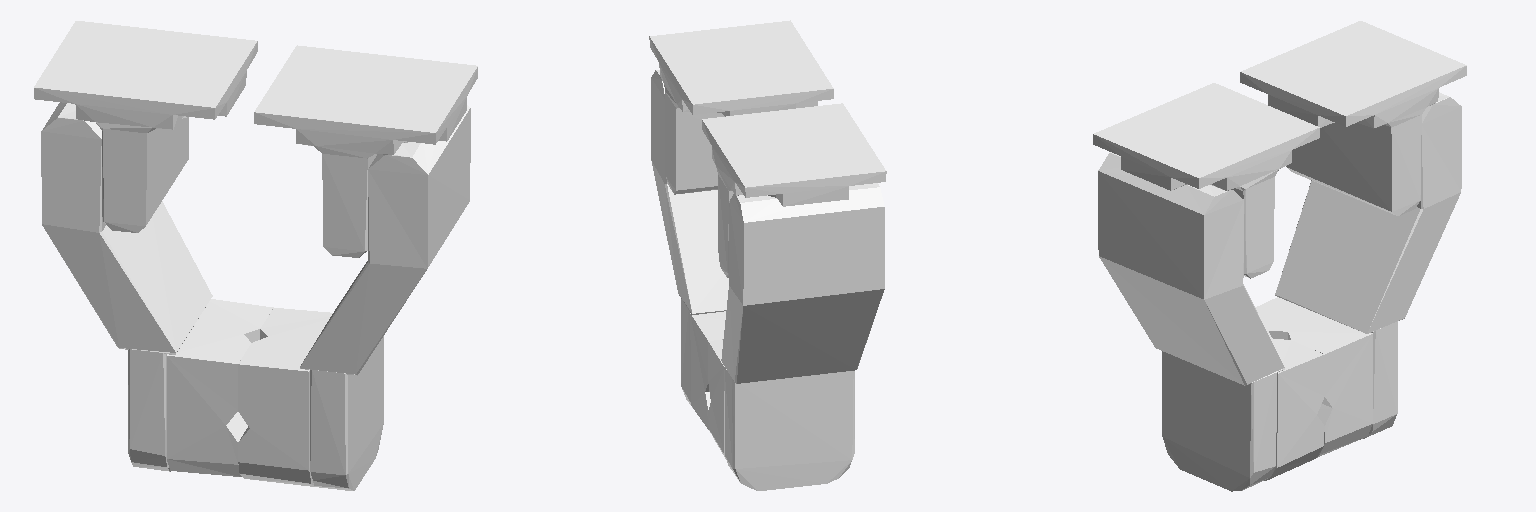
robot.urdf — panda:
<?xml version="1.0" ?>
<!-- =================================================================================== -->
<!-- |    This document was autogenerated by xacro from panda_arm_hand.urdf.xacro      | -->
<!-- |    EDITING THIS FILE BY HAND IS NOT RECOMMENDED                                 | -->
<!-- =================================================================================== -->
<robot name="panda" xmlns:xacro="http://www.ros.org/wiki/xacro">
<link name="world"/>
<joint name="base_joint" type="fixed">
    <origin rpy="0 0 0" xyz="0 0 0"/>
    <parent link="world"/>
    <child link="panda_link0"/>
  </joint>
  <link name="panda_link0">
  	<inertial>
      <origin rpy="0 0 0" xyz="0 0 0.05"/>
       <mass value="2.9"/>
       <inertia ixx="0.1" ixy="0" ixz="0" iyy="0.1" iyz="0" izz="0.1"/>
    </inertial>
    <visual>
      <geometry>
        <mesh filename="meshes/collision/link0.obj"/>
      </geometry>
      <material name="panda_white">
    		<color rgba="1. 1. 1. 1."/>
  		</material>
    </visual>
    <collision>
      <geometry>
        <mesh filename="meshes/collision/link0.obj"/>
      </geometry>
      <material name="panda_white"/>
    </collision>
  </link>
  <link name="panda_link1">
  	<inertial>
      <origin rpy="0 0 0" xyz="0 -0.04 -0.05"/>
       <mass value="2.7"/>
       <inertia ixx="0.1" ixy="0" ixz="0" iyy="0.1" iyz="0" izz="0.1"/>
    </inertial>
    <visual>
      <geometry>
        <mesh filename="meshes/visual/link1.obj"/>
      </geometry>
      <material name="panda_white"/>
    </visual>
    <collision>
      <geometry>
        <mesh filename="meshes/collision/link1.obj"/>
      </geometry>
      <material name="panda_white"/>
    </collision>
  </link>
  <joint name="panda_joint1" type="revolute">
    <safety_controller k_position="100.0" k_velocity="40.0" soft_lower_limit="-2.8973" soft_upper_limit="2.8973"/>
    <origin rpy="0 0 0" xyz="0 0 0.333"/>
    <parent link="panda_link0"/>
    <child link="panda_link1"/>
    <axis xyz="0 0 1"/>
    <limit effort="87" lower="-2.9671" upper="2.9671" velocity="2.1750"/>
  </joint>
  <link name="panda_link2">
  	<inertial>
      <origin rpy="0 0 0" xyz="0 -0.04 0.06"/>
       <mass value="2.73"/>
       <inertia ixx="0.1" ixy="0" ixz="0" iyy="0.1" iyz="0" izz="0.1"/>
    </inertial>
    <visual>
      <geometry>
        <mesh filename="meshes/visual/link2.obj"/>
      </geometry>
      <material name="panda_white"/>
    </visual>
    <collision>
      <geometry>
        <mesh filename="meshes/collision/link2.obj"/>
      </geometry>
      <material name="panda_white"/>
    </collision>
  </link>
  <joint name="panda_joint2" type="revolute">
    <safety_controller k_position="100.0" k_velocity="40.0" soft_lower_limit="-1.7628" soft_upper_limit="1.7628"/>
    <origin rpy="-1.57079632679 0 0" xyz="0 0 0"/>
    <parent link="panda_link1"/>
    <child link="panda_link2"/>
    <axis xyz="0 0 1"/>
    <limit effort="87" lower="-1.8326" upper="1.8326" velocity="2.1750"/>
  </joint>
  <link name="panda_link3">
	  <inertial>
      <origin rpy="0 0 0" xyz="0.01 0.01 -0.05"/>
       <mass value="2.04"/>
       <inertia ixx="0.1" ixy="0" ixz="0" iyy="0.1" iyz="0" izz="0.1"/>
    </inertial>
    <visual>
      <geometry>
        <mesh filename="meshes/visual/link3.obj"/>
      </geometry>
      <material name="panda_red">
    		<color rgba="1. 1. 1. 1."/>
  		</material>
    </visual>
    <collision>
      <geometry>
        <mesh filename="meshes/collision/link3.obj"/>
      </geometry>
    </collision>
  </link>
  <joint name="panda_joint3" type="revolute">
    <safety_controller k_position="100.0" k_velocity="40.0" soft_lower_limit="-2.8973" soft_upper_limit="2.8973"/>
    <origin rpy="1.57079632679 0 0" xyz="0 -0.316 0"/>
    <parent link="panda_link2"/>
    <child link="panda_link3"/>
    <axis xyz="0 0 1"/>
    <limit effort="87" lower="-2.9671" upper="2.9671" velocity="2.1750"/>
  </joint>
  <link name="panda_link4">
  	<inertial>
      <origin rpy="0 0 0" xyz="-0.03 0.03 0.02"/>
       <mass value="2.08"/>
       <inertia ixx="0.1" ixy="0" ixz="0" iyy="0.1" iyz="0" izz="0.1"/>
    </inertial>
    <visual>
      <geometry>
        <mesh filename="meshes/visual/link4.obj"/>
      </geometry>
      <material name="panda_white"/>
    </visual>
    <collision>
      <geometry>
        <mesh filename="meshes/collision/link4.obj"/>
      </geometry>
      <material name="panda_white"/>
    </collision>
  </link>
  <joint name="panda_joint4" type="revolute">
    <safety_controller k_position="100.0" k_velocity="40.0" soft_lower_limit="-3.0718" soft_upper_limit="-0.0698"/>
    <origin rpy="1.57079632679 0 0" xyz="0.0825 0 0"/>
    <parent link="panda_link3"/>
    <child link="panda_link4"/>
    <axis xyz="0 0 1"/>
    <limit effort="87" lower="-3.1416" upper="0.0" velocity="2.1750"/>
  </joint>
  <link name="panda_link5">
  	<inertial>
      <origin rpy="0 0 0" xyz="0 0.04 -0.12"/>
       <mass value="3"/>
       <inertia ixx="0.1" ixy="0" ixz="0" iyy="0.1" iyz="0" izz="0.1"/>
    </inertial>
    <visual>
      <geometry>
        <mesh filename="meshes/visual/link5.obj"/>
      </geometry>
      <material name="panda_white"/>
    </visual>
    <collision>
      <geometry>
        <mesh filename="meshes/collision/link5.obj"/>
      </geometry>
      <material name="panda_white"/>
    </collision>
  </link>
  <joint name="panda_joint5" type="revolute">
    <safety_controller k_position="100.0" k_velocity="40.0" soft_lower_limit="-2.8973" soft_upper_limit="2.8973"/>
    <origin rpy="-1.57079632679 0 0" xyz="-0.0825 0.384 0"/>
    <parent link="panda_link4"/>
    <child link="panda_link5"/>
    <axis xyz="0 0 1"/>
    <limit effort="12" lower="-2.9671" upper="2.9671" velocity="2.6100"/>
  </joint>
  <link name="panda_link6">
  	<inertial>
      <origin rpy="0 0 0" xyz="0.04 0 0"/>
       <mass value="1.3"/>
       <inertia ixx="0.1" ixy="0" ixz="0" iyy="0.1" iyz="0" izz="0.1"/>
    </inertial>
    <visual>
      <geometry>
        <mesh filename="meshes/visual/link6.obj"/>
      </geometry>
      <material name="panda_white"/>
    </visual>
    <collision>
      <geometry>
        <mesh filename="meshes/collision/link6.obj"/>
      </geometry>
      <material name="panda_white"/>
    </collision>
  </link>
  <joint name="panda_joint6" type="revolute">
    <safety_controller k_position="100.0" k_velocity="40.0" soft_lower_limit="-0.0175" soft_upper_limit="3.7525"/>
    <origin rpy="1.57079632679 0 0" xyz="0 0 0"/>
    <parent link="panda_link5"/>
    <child link="panda_link6"/>
    <axis xyz="0 0 1"/>
    <limit effort="12" lower="-0.0873" upper="3.8223" velocity="2.6100"/>
  </joint>
  <link name="panda_link7">
  	<inertial>
      <origin rpy="0 0 0" xyz="0 0 0.08"/>
       <mass value=".2"/>
       <inertia ixx="0.1" ixy="0" ixz="0" iyy="0.1" iyz="0" izz="0.1"/>
    </inertial>
    <visual>
      <geometry>
        <mesh filename="meshes/collision/link7.obj"/>
      </geometry>
      <material name="panda_white"/>
    </visual>
    <collision>
      <geometry>
        <mesh filename="meshes/collision/link7.obj"/>
      </geometry>
      <material name="panda_white"/>
    </collision>
  </link>
  <joint name="panda_joint7" type="revolute">
    <safety_controller k_position="100.0" k_velocity="40.0" soft_lower_limit="-2.8973" soft_upper_limit="2.8973"/>
    <origin rpy="1.57079632679 0 0" xyz="0.088 0 0"/>
    <parent link="panda_link6"/>
    <child link="panda_link7"/>
    <axis xyz="0 0 1"/>
    <limit effort="12" lower="-2.9671" upper="2.9671" velocity="2.6100"/>
  </joint>
  <link name="panda_link8">
  </link>
  <joint name="panda_joint8" type="fixed">
    <origin rpy="0 0 0" xyz="0 0 0.107"/>
    <parent link="panda_link7"/>
    <child link="panda_link8"/>
    <axis xyz="0 0 0"/>
  </joint>
  <joint name="panda_hand_joint" type="fixed">
    <parent link="panda_link8"/>
    <child link="panda_hand"/>
    <origin rpy="0 0 -0.785398163397" xyz="0 0 0"/>
  </joint>
  <link name="panda_hand">
  	<inertial>
      <origin rpy="0 0 0" xyz="0 0 0.04"/>
       <mass value=".81"/>
       <inertia ixx="0.1" ixy="0" ixz="0" iyy="0.1" iyz="0" izz="0.1"/>
    </inertial>
    <visual>
      <geometry>
        <mesh filename="meshes/visual/hand.obj"/>
      </geometry>
      <material name="panda_white"/>
    </visual>
    <collision>
      <geometry>
        <mesh filename="meshes/collision/hand.obj"/>
      </geometry>
      <material name="panda_white"/>
    </collision>
  </link>
  <link name="panda_leftfinger">
       <contact>
      <friction_anchor/>
      <stiffness value="30000.0"/>
      <damping value="1000.0"/>
      <spinning_friction value="0.1"/>
      <lateral_friction value="1.0"/>
    </contact>
  	<inertial>
      <origin rpy="0 0 0" xyz="0 0.01 0.02"/>
       <mass value="0.1"/>
       <inertia ixx="0.1" ixy="0" ixz="0" iyy="0.1" iyz="0" izz="0.1"/>
    </inertial>
    <visual>
      <geometry>
        <!-- <mesh filename="meshes/visual/finger.obj"/> -->
        <mesh filename="meshes/visual/finger_vis.obj"/>
        <!-- <mesh filename="meshes/collision/finger_transformed.obj"/> -->
      </geometry>
      <material name="panda_white"/>
    </visual>
    <collision>
      <geometry>
        <mesh filename="meshes/collision/finger_transformed.obj"/>
      </geometry>
      <material name="panda_white"/>
    </collision>
  </link>
  <link name="panda_rightfinger">
        <contact>
      <friction_anchor/>
      <stiffness value="30000.0"/>
      <damping value="1000.0"/>
      <spinning_friction value="0.1"/>
      <lateral_friction value="1.0"/>
    </contact>

  	<inertial>
      <origin rpy="0 0 0" xyz="0 -0.01 0.02"/>
       <mass value="0.1"/>
       <inertia ixx="0.1" ixy="0" ixz="0" iyy="0.1" iyz="0" izz="0.1"/>
    </inertial>
    <visual>
      <origin rpy="0 0 0" xyz="0 0 0"/>
      <geometry>
        <!-- <mesh filename="meshes/visual/finger.obj"/> -->
        <mesh filename="meshes/visual/finger_vis.obj"/>
        <!-- <mesh filename="meshes/collision/finger_transformed.obj"/> -->
      </geometry>
      <material name="panda_white"/>
    </visual>
    <collision>
      <origin rpy="0 0 0" xyz="0 0 0"/>
      <geometry>
        <!-- <mesh filename="meshes/collision/finger.obj"/> -->
        <mesh filename="meshes/collision/finger_transformed.obj"/>
      </geometry>
      <material name="panda_white"/>
    </collision>
  </link>
  <joint name="panda_finger_joint1" type="prismatic">
    <parent link="panda_hand"/>
    <child link="panda_leftfinger"/>
    <origin rpy="0 0 0" xyz="0 0.01 0.0684"/>
    <axis xyz="0 1 0"/>
    <limit effort="20" lower="0.0" upper="0.04" velocity="0.2"/>
  </joint>
  <joint name="panda_finger_joint2" type="prismatic">
    <parent link="panda_hand"/>
    <child link="panda_rightfinger"/>
    <origin rpy="0 0 3.14" xyz="0 -0.01 0.0684"/>
    <axis xyz="0 1 0"/>
    <limit effort="20" lower="0.0" upper="0.04" velocity="0.2"/>
    <!-- <mimic joint="panda_finger_joint1"/> -->
  </joint>

  <link name="panda_grasptarget">
<!--  <inertial>-->
<!--      <origin rpy="0 0 0" xyz="0 0 0"/>-->
<!--       <mass value="0.0"/>-->
<!--       <inertia ixx="0.1" ixy="0" ixz="0" iyy="0.1" iyz="0" izz="0.1"/>-->
<!--    </inertial>-->
   </link>
   <joint name="panda_grasptarget_hand" type="fixed">
    <parent link="panda_hand"/>
    <child link="panda_grasptarget"/>
    <origin rpy="0 0 0" xyz="0 0 0.105"/>
  </joint>

<!--  <link name="spatula_link">-->
<!--    <inertial>-->
<!--      <origin rpy="-2.9515927 0 -3.1415926" xyz="0 -0.03 -0.16"/>-->
<!--      <mass value="0.4"/>-->
<!--      <inertia ixx="1" ixy="0" ixz="0" iyy="1" iyz="0" izz="1"/>-->
<!--    </inertial>-->
<!--    <visual>-->
<!--      <origin rpy="-2.9515927 0 -3.1415926" xyz="0 0.0 0.16"/>-->
<!--      <geometry>-->
<!--        <mesh filename="../spatula/spatula.obj" scale="0.4 0.4 0.4"/>-->
<!--      </geometry>-->
<!--      <material name="grey">-->
<!--        <color rgba="0.85 0.85 0.85 1.0"/>-->
<!--      </material>-->
<!--    </visual>-->
<!--    <collision>-->
<!--      <origin rpy="-2.9515927 0 -3.1415926" xyz="0 0.0 0.16"/>-->
<!--      <geometry>-->
<!--  	<mesh filename="../spatula/spatula.obj" scale="0.4 0.4 0.4"/>-->
<!--      </geometry>-->
<!--    </collision>-->
<!--  </link>-->


  <!-- <link name="ee">
   <inertial>
     <origin rpy="0 0 0" xyz="0 0 0"/>
      <mass value="0.0"/>
      <inertia ixx="0.1" ixy="0" ixz="0" iyy="0.1" iyz="0" izz="0.1"/>
   </inertial>
    <visual>
      <origin xyz="0 0 0" rpy="0 0 0"/>
      <geometry>
       <sphere radius="0.01"/>
        <box size="0.1 0.08 0.005"/>
      </geometry>
        <material name="cyan">
            <color rgba="0 1 1 1"/>
        </material>
    </visual>
    <collision>
      <origin rpy="0 0 0" xyz="-0.0 0 0."/>
      <geometry>
  	    <box size="0.1 0.08 0.005"/>
      </geometry>
    </collision>
  </link>
 <joint name="spatula_joint_ee" type="fixed">
   <parent link="spatula_link"/>
   <child link="ee"/>
&lt;!&ndash;    <origin rpy="0 0 0" xyz="0 -0.01 0.3"/>&ndash;&gt;
   <origin rpy=" 0 -1.77 -1.5707963" xyz="0 -0.01 0.3"/>
 </joint>
    <joint name="spatula_joint_ee" type="fixed">
    <parent link="spatula_link"/>
    <child link="ee"/>
   <origin rpy="0 0 0" xyz="0 -0.01 0.3"/>
    <origin rpy=" 0 -2. -1.5707963" xyz="0. 0.01 0.25"/>
    <origin rpy="0 0 3.1415926" xyz="0. 0. -0"/>
  </joint> -->

<!--  <link name="target">-->
<!--    <visual>-->
<!--    <origin xyz="0 0 0.02" rpy="0 0 0"/>-->
<!--      <geometry>-->
<!--        <sphere radius="0.1"/>-->
<!--      </geometry>-->
<!--        <material name="cyan">-->
<!--            <color rgba="0 1 1 1"/>-->
<!--        </material>-->
<!--    </visual>-->
<!--  </link>-->
<!--  <joint name="target_joint" type="fixed">-->
<!--    <parent link="world"/>-->
<!--    <child link="target"/>-->
<!--    <origin rpy="0 0 0" xyz="0 0.0 0."/>-->
<!--  </joint>-->

</robot>

--- What the picture shows (computed from the rendered views, not written in the file) ---
The picture shows the robot from 3 angles, left to right: view 1: azimuth 30°, elevation 25°; view 2: azimuth 150°, elevation 25°; view 3: azimuth 270°, elevation 25°; orthographic projection.
Model panda with 14 links and 13 joints (7 revolute, 2 prismatic, 4 fixed), rooted at world, posed all joints at 0.
Visible links, largest first — view 1: panda_rightfinger, panda_leftfinger; view 2: panda_rightfinger, panda_leftfinger; view 3: panda_leftfinger, panda_rightfinger.
Link boxes in pixels (bbox=[...]): panda_rightfinger: bbox=[34, 21, 273, 476]; panda_leftfinger: bbox=[238, 45, 477, 490]; panda_rightfinger: bbox=[702, 103, 886, 490]; panda_leftfinger: bbox=[649, 20, 833, 432]; panda_leftfinger: bbox=[1093, 83, 1324, 491]; panda_rightfinger: bbox=[1240, 21, 1466, 457].
Size in the robot's own frame: 0.0519 by 0.0519 by 0.0538 metres.
2 mesh visuals loaded from 10 distinct referenced files (1 OBJ); not drawn: 9 (reference not matched to a file when rendering).